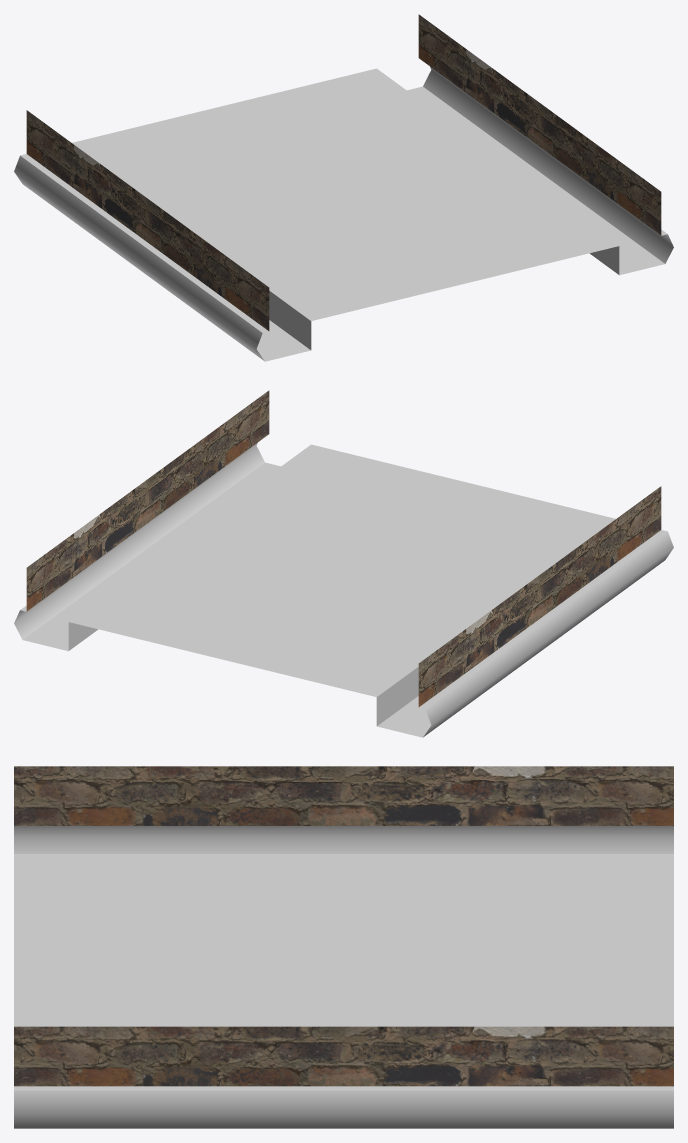
File: SM_Tunnel_Middle.fbx
The picture shows the model from 3 angles, top to bottom: view 1: azimuth 30°, elevation 25°; view 2: azimuth 150°, elevation 25°; view 3: azimuth 270°, elevation 25°; orthographic projection. The views are drawn at different scales.
Parts seen in each view (by area): view 1: SM_Tunnel_Middle; view 2: SM_Tunnel_Middle; view 3: SM_Tunnel_Middle.
Part boxes in pixels (x1,y1,x2,y2): SM_Tunnel_Middle: (14,14,673,361); SM_Tunnel_Middle: (14,390,673,737); SM_Tunnel_Middle: (14,766,673,1128).
Size of the model in its own units: 2.98 by 0.4997 by 3.
